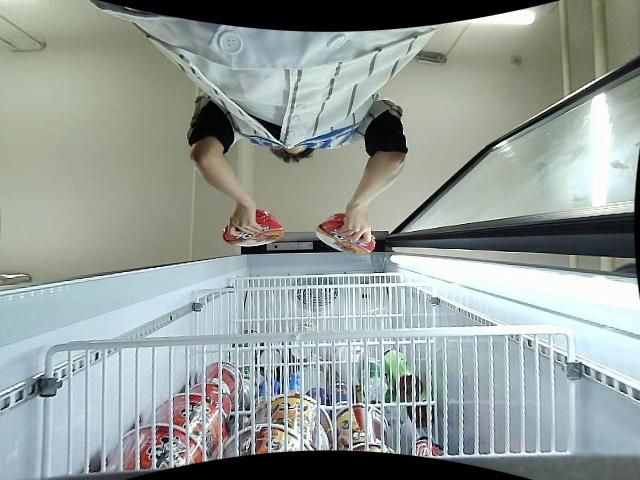00_hand: (333, 203, 373, 245), (226, 197, 264, 235)
10_wangTtukkeong: (317, 214, 375, 255), (223, 210, 282, 247)
